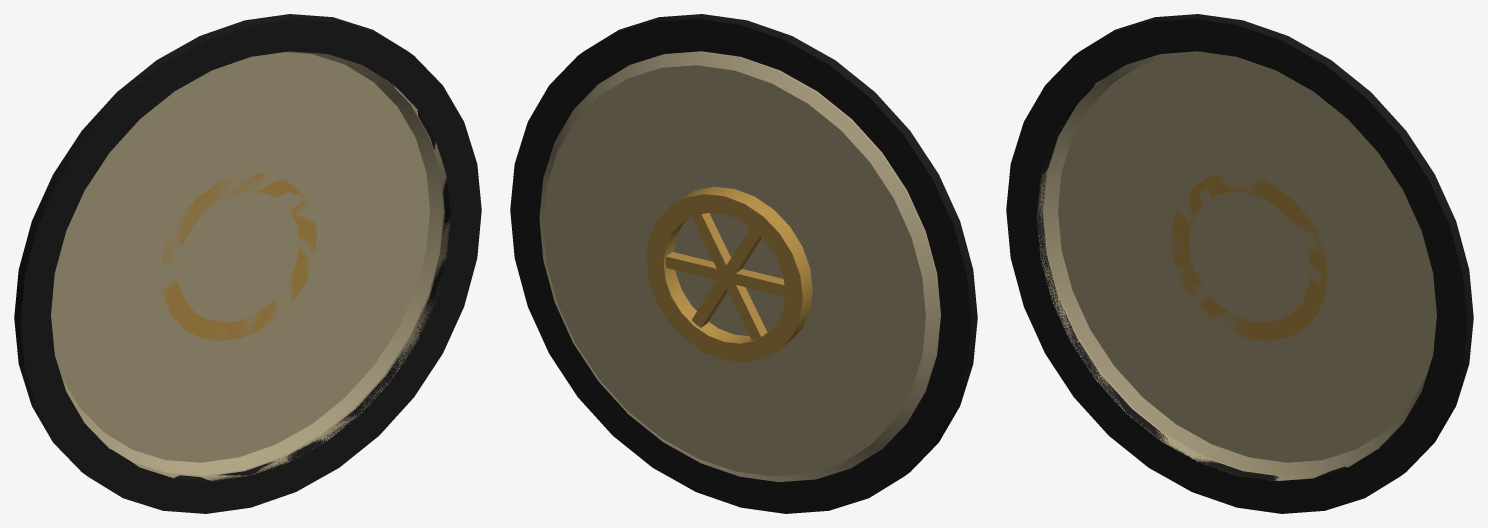
The model's file is pod4_seal.obj.
3 renders of one model, left to right at view 1: azimuth 30°, elevation 25°; view 2: azimuth 150°, elevation 25°; view 3: azimuth 330°, elevation 25°, orthographic.
Parts seen in each view (by area): view 1: pod4_seal; view 2: pod4_seal; view 3: pod4_seal.
Boxes of the visible parts, bbox=[...] form: pod4_seal: bbox=[14, 14, 481, 513]; pod4_seal: bbox=[510, 14, 977, 513]; pod4_seal: bbox=[1006, 14, 1473, 513].
Size of the model in its own units: 1.06 by 1.06 by 0.09.
